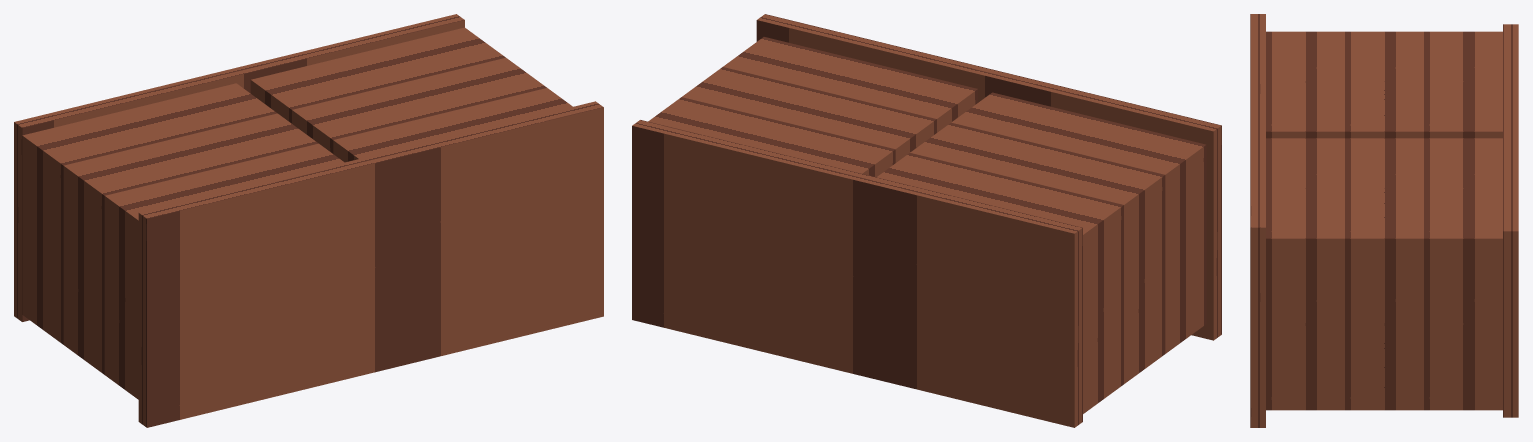
The model's file is dresser.glb.
3 views of the same model, side by side, from view 1: azimuth 30°, elevation 25°; view 2: azimuth 150°, elevation 25°; view 3: azimuth 270°, elevation 25° (orthographic). The views are drawn at different scales.
Parts seen in each view (by area): view 1: dresser; view 2: dresser; view 3: dresser.
Boxes of the visible parts, x1,y1,x2,y2 form: dresser: [14, 14, 603, 427]; dresser: [632, 14, 1221, 427]; dresser: [1250, 14, 1518, 427].
Size of the model in its own units: 2 by 0.875 by 1.06.
Materials: 1 (1 with a texture image).
